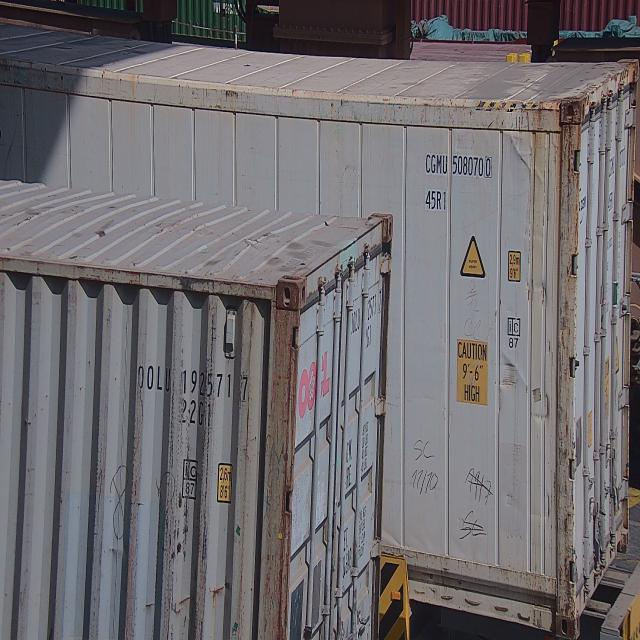Rust: (257, 262, 308, 598), (547, 84, 591, 306)
